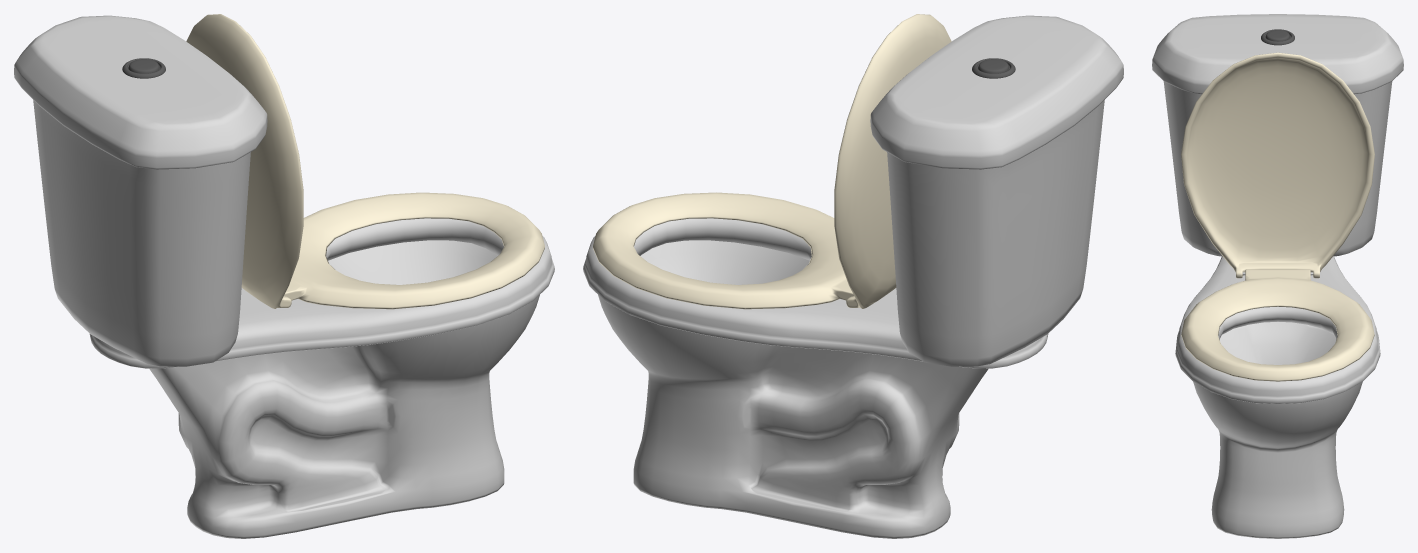
Rendered from SM_Toilet.fbx.
3 views of the same model, side by side, from view 1: azimuth 30°, elevation 25°; view 2: azimuth 150°, elevation 25°; view 3: azimuth 270°, elevation 25° (orthographic). The views are drawn at different scales.
Parts seen in each view (by area): view 1: Object_3.001; view 2: Object_3.001; view 3: Object_3.001.
Boxes of the visible parts, <box> form: Object_3.001: <box>14,14,554,538</box>; Object_3.001: <box>583,14,1123,538</box>; Object_3.001: <box>1152,14,1403,538</box>.
Size of the model in its own units: 80.69 by 80.67 by 47.13.
